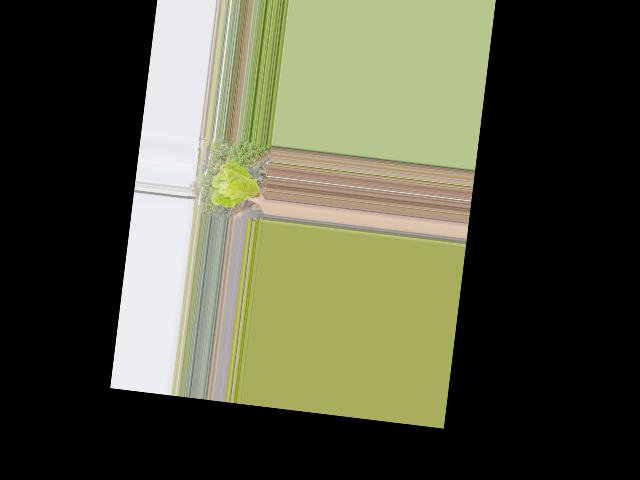lettuce: (208, 158, 266, 214)
